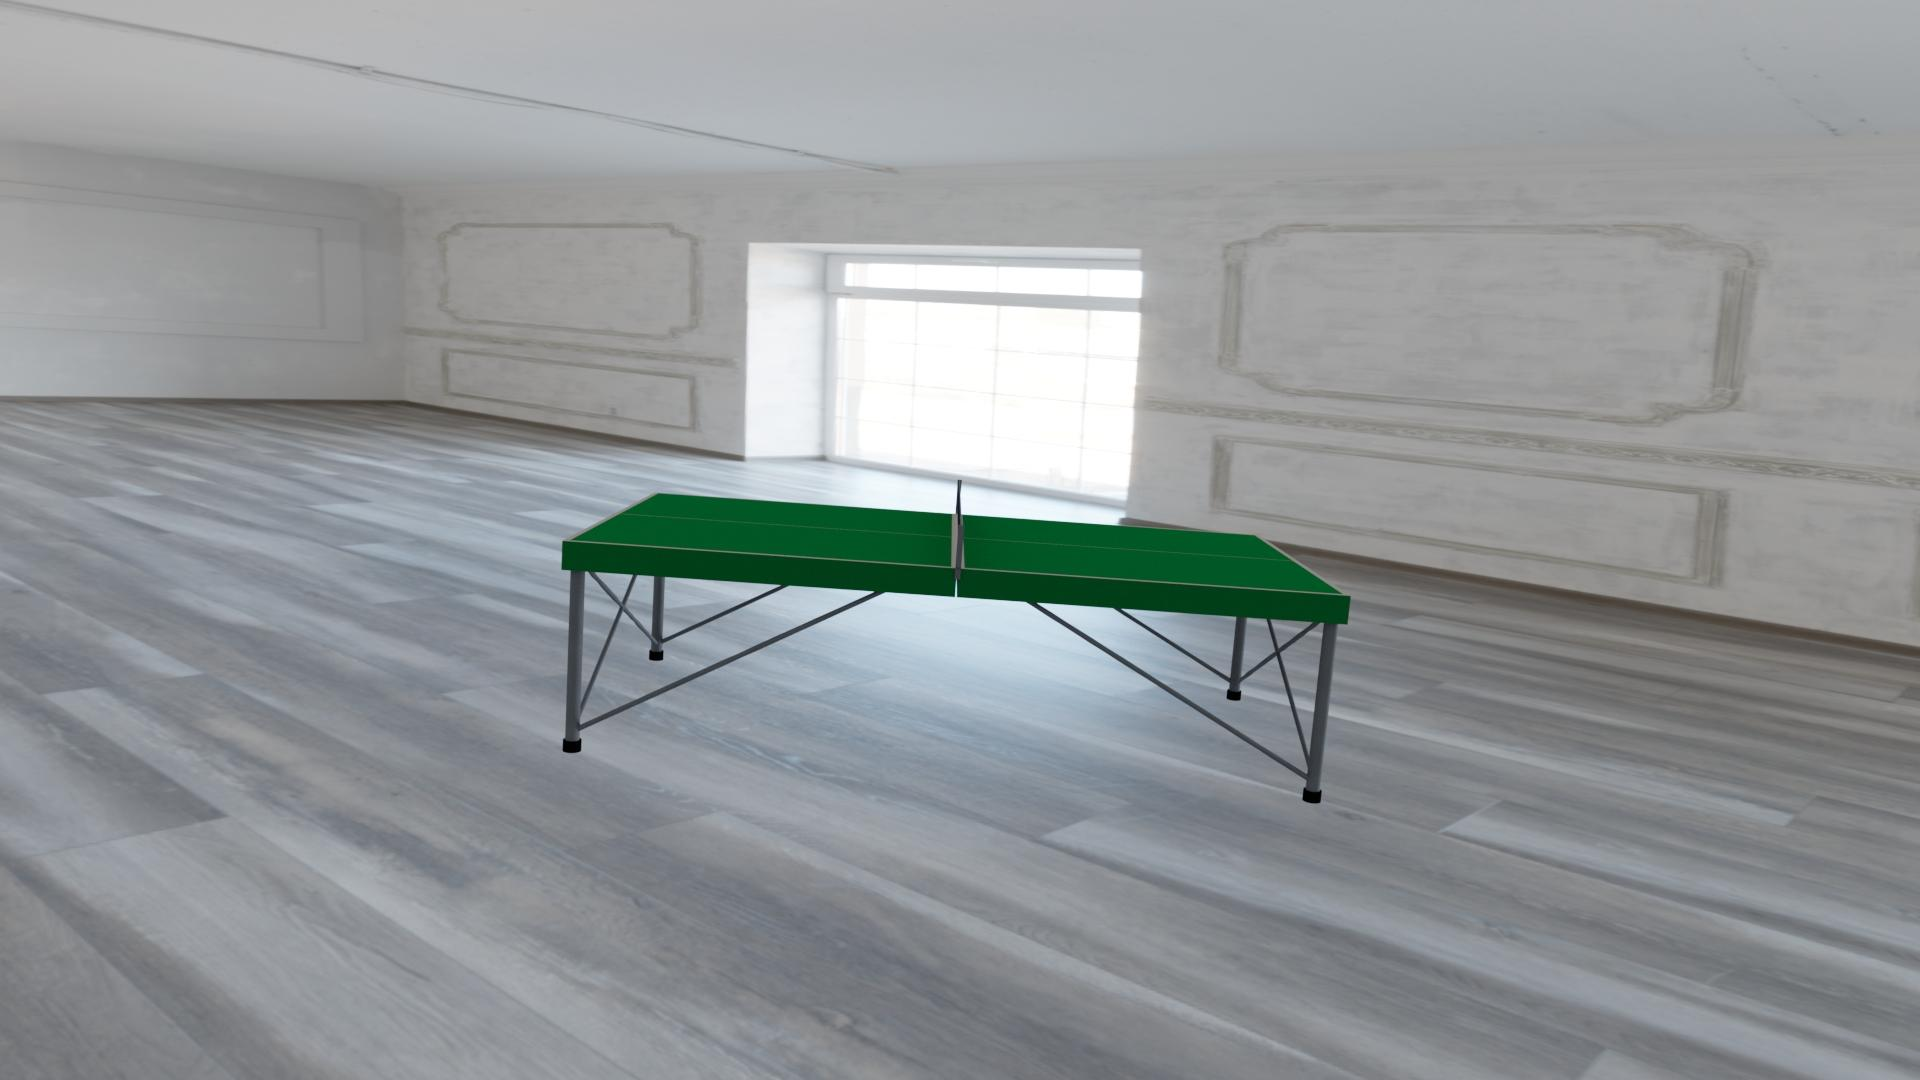table: (570, 493, 1344, 595)
